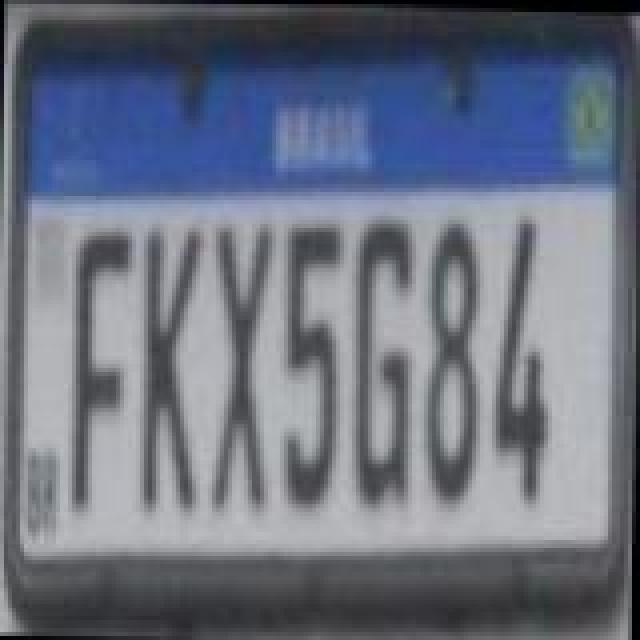4: (492, 208, 560, 500)
5: (280, 216, 348, 512)
8: (422, 212, 486, 508)
F: (68, 224, 136, 508)
G: (348, 214, 416, 510)
K: (140, 218, 208, 518)
X: (212, 220, 280, 516)
